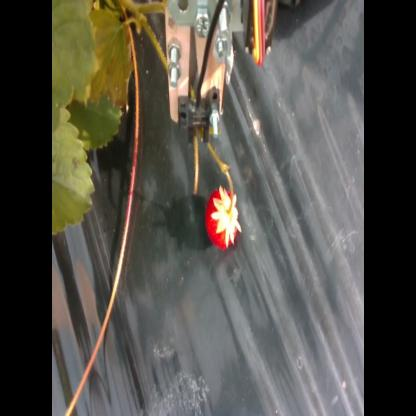ripe: (206, 182, 241, 254)
unripe: (224, 176, 236, 218)
